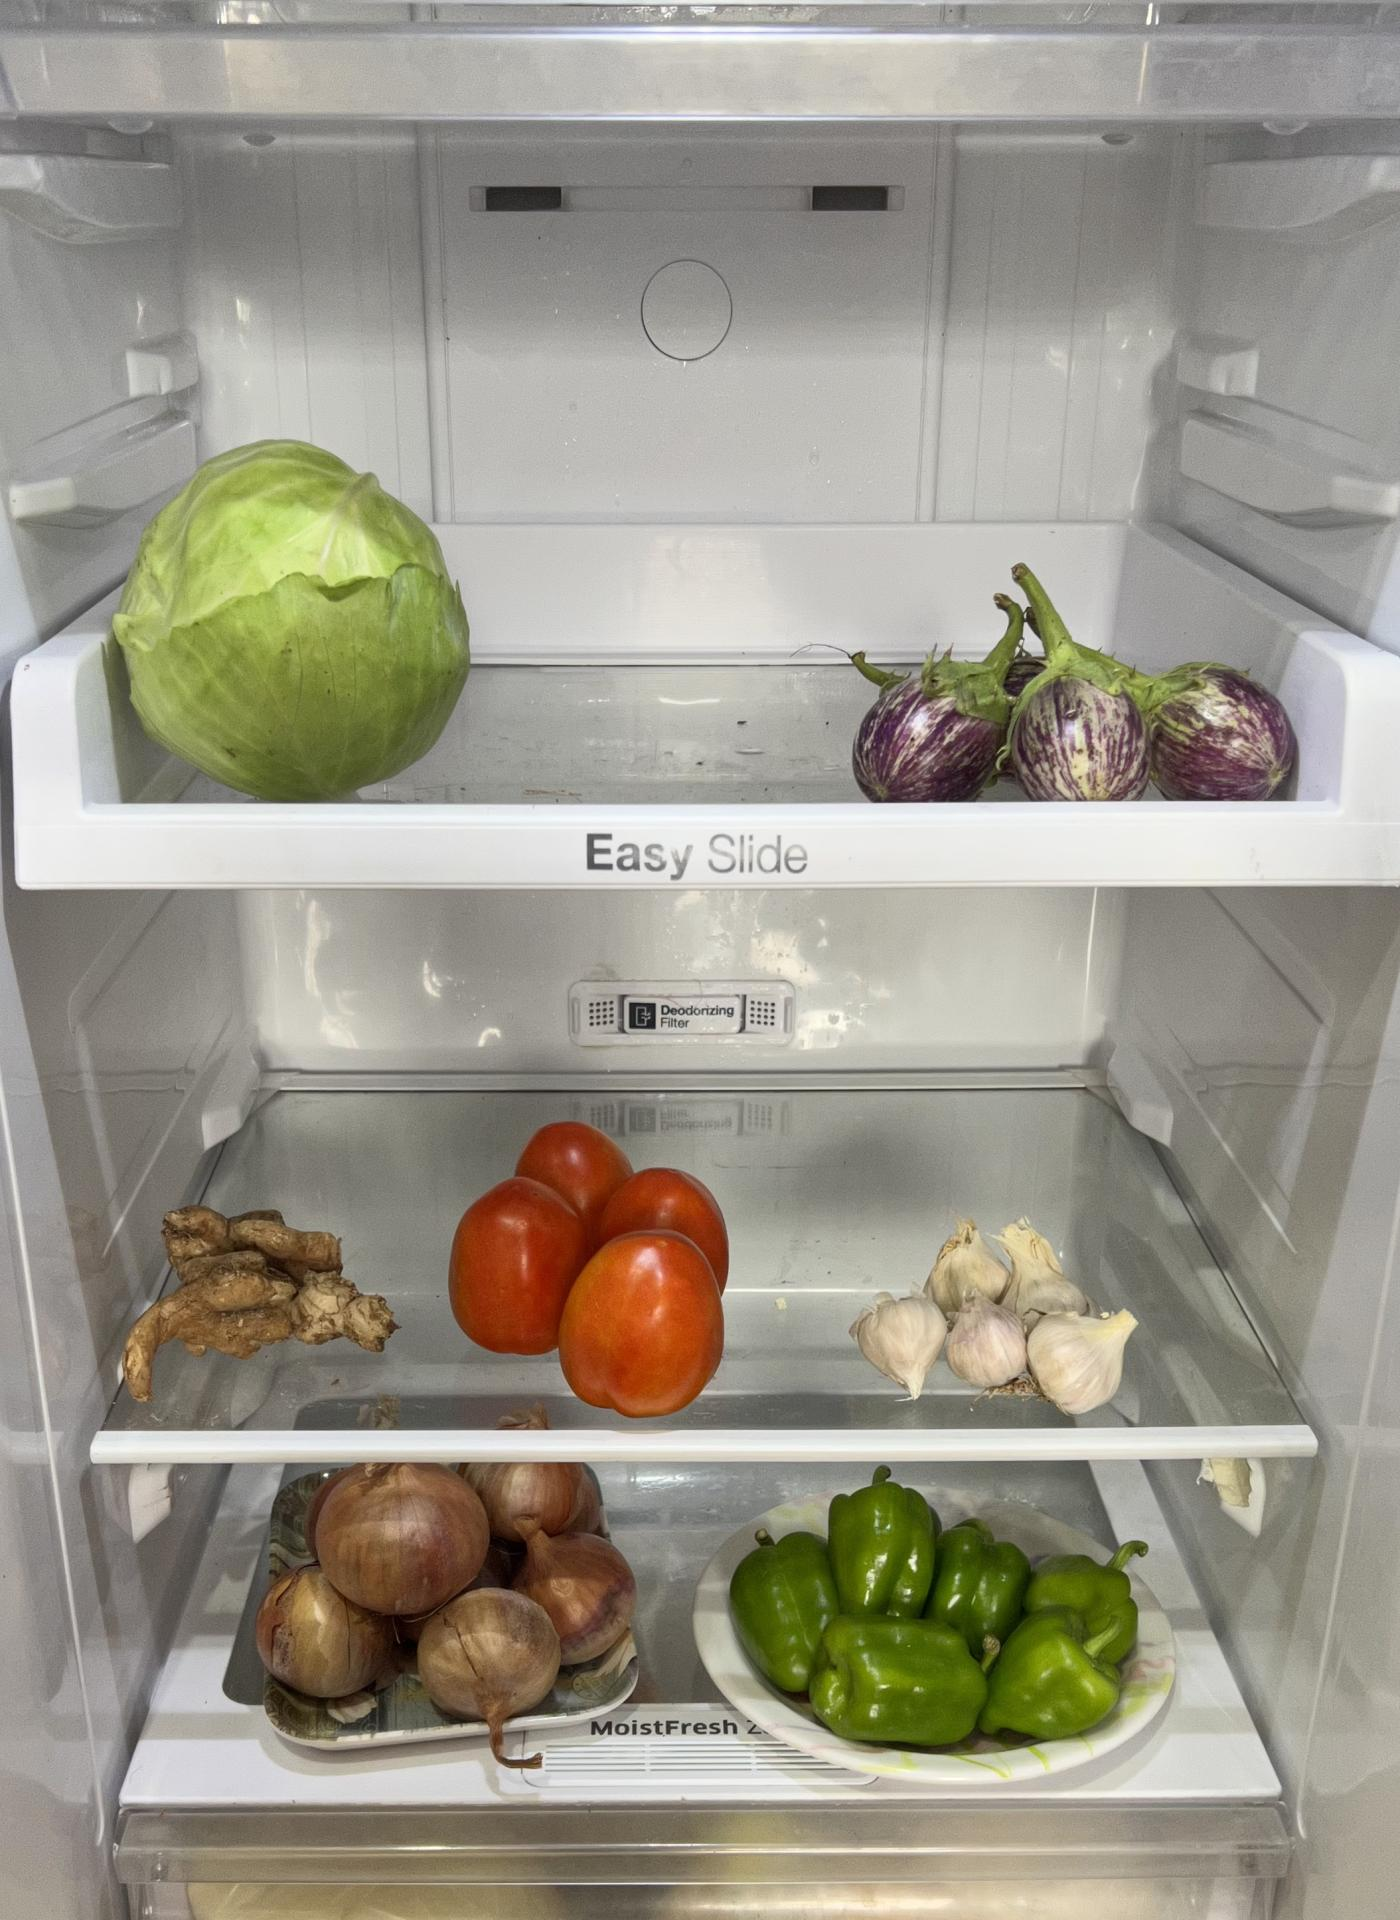cabbage: (94, 432, 488, 766)
capsicum: (728, 1471, 1144, 1747)
garlic: (850, 1207, 1141, 1419)
ginger: (122, 1190, 394, 1398)
onion: (246, 1462, 638, 1719)
tomato: (449, 1114, 735, 1422)
